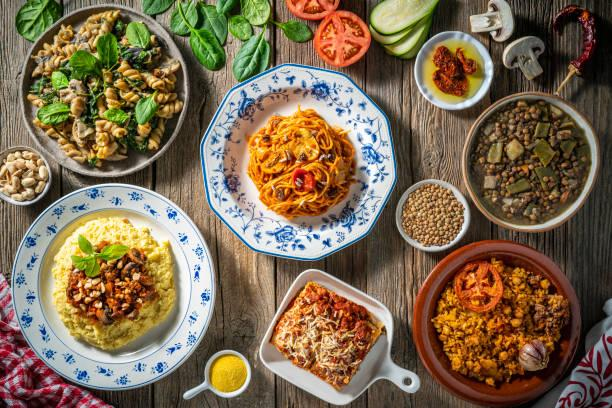Braised Crucian Carp: (10, 184, 215, 393), (199, 62, 394, 260), (19, 3, 191, 178), (408, 236, 581, 400), (256, 267, 421, 406), (462, 89, 600, 235)
